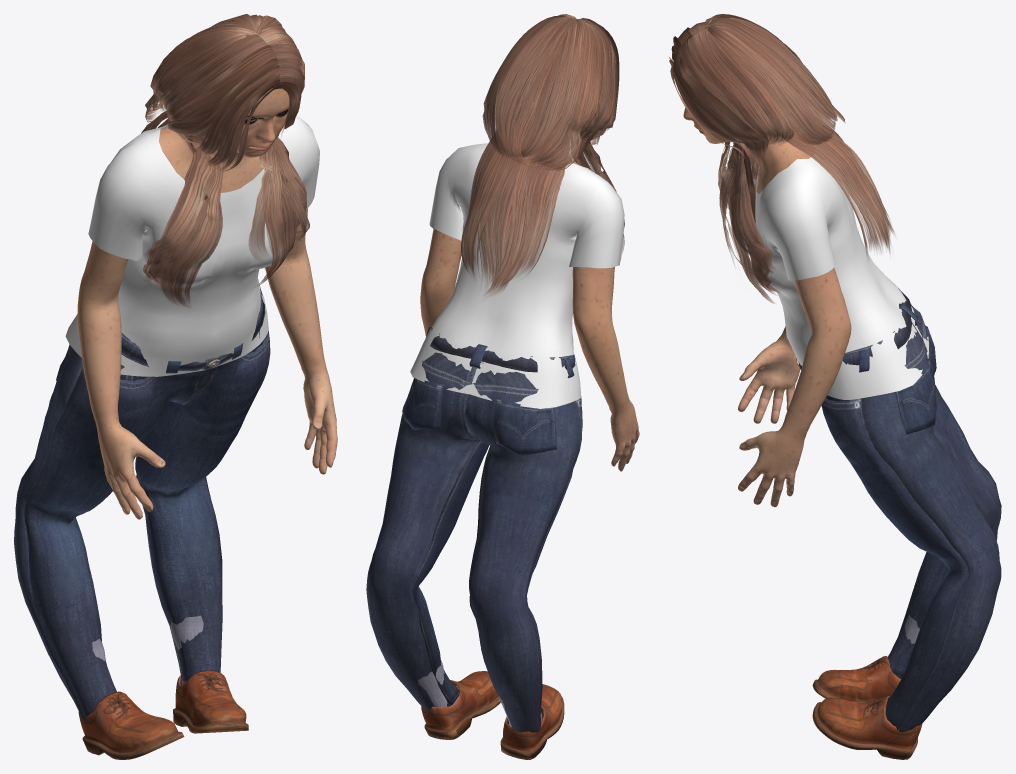
Rendered from donna-05.glb.
3 views of the same model, side by side, from view 1: azimuth 30°, elevation 25°; view 2: azimuth 150°, elevation 25°; view 3: azimuth 270°, elevation 25° (orthographic). The views are drawn at different scales.
Parts seen in each view (by area): view 1: Human.punkduck_female_tight_jeans, Human.joepal_crude_t-shirt_female, Human.elvs_daisy_hair, Human, Human.shoes01; view 2: Human.punkduck_female_tight_jeans, Human.elvs_daisy_hair, Human.joepal_crude_t-shirt_female, Human, Human.shoes01; view 3: Human.punkduck_female_tight_jeans, Human.elvs_daisy_hair, Human.joepal_crude_t-shirt_female, Human, Human.shoes01.
Boxes of the visible parts, x1,y1,x2,y2 form: Human.punkduck_female_tight_jeans: (14,279,270,720); Human.joepal_crude_t-shirt_female: (65,115,319,376); Human.elvs_daisy_hair: (141,14,309,307); Human: (77,36,337,519); Human.shoes01: (78,615,248,759); Human.punkduck_female_tight_jeans: (366,326,582,732); Human.elvs_daisy_hair: (461,14,624,295); Human.joepal_crude_t-shirt_female: (410,143,624,408); Human: (420,71,639,471); Human.shoes01: (418,659,564,759); Human.punkduck_female_tight_jeans: (796,288,1001,732); Human.elvs_daisy_hair: (669,14,894,303); Human.joepal_crude_t-shirt_female: (751,154,928,399); Human: (683,108,851,507); Human.shoes01: (812,615,922,759).
Bounding box in the file's own units: 0.435 × 1.43 × 0.6042.
13 materials, 13 textured.
